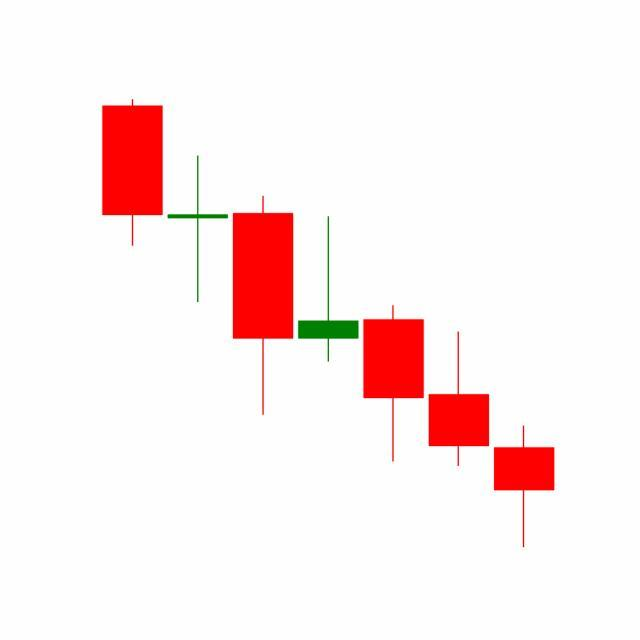Three Outside Up-Down: (295, 214, 492, 470)
